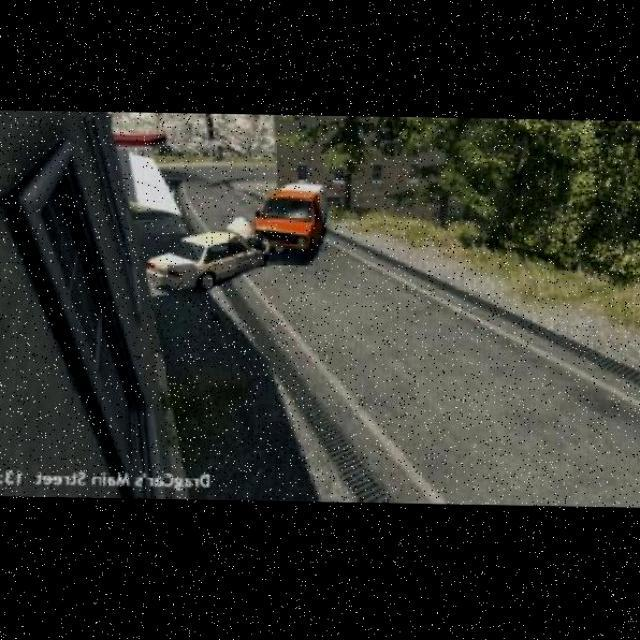accident: (140, 177, 342, 280)
